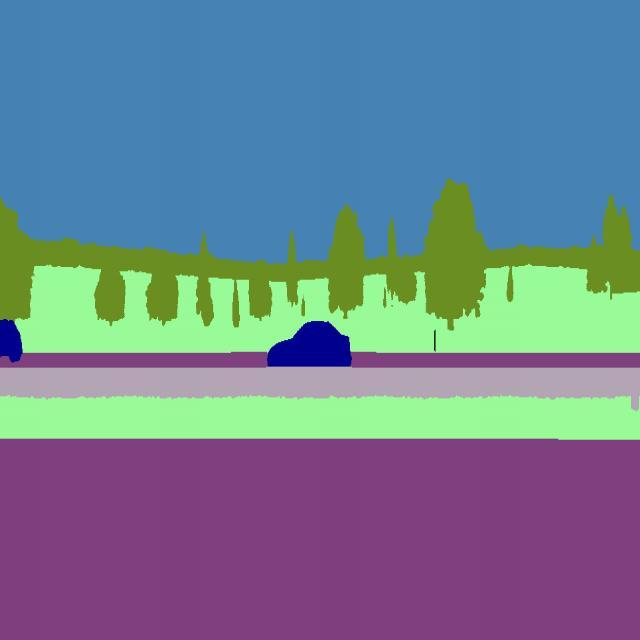safe: (266, 318, 350, 369), (0, 314, 27, 366)
